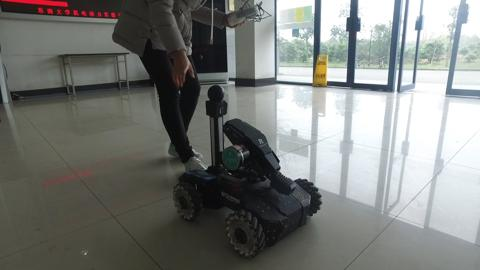chariot: (166, 82, 334, 259)
